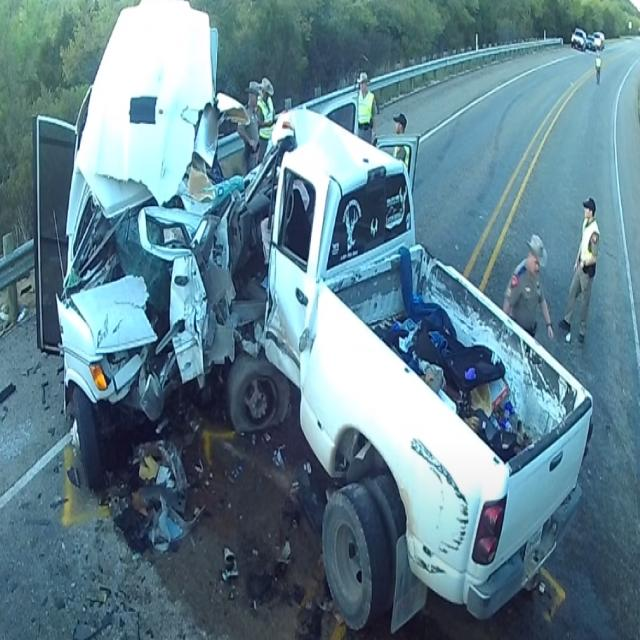accident: (35, 14, 580, 622)
